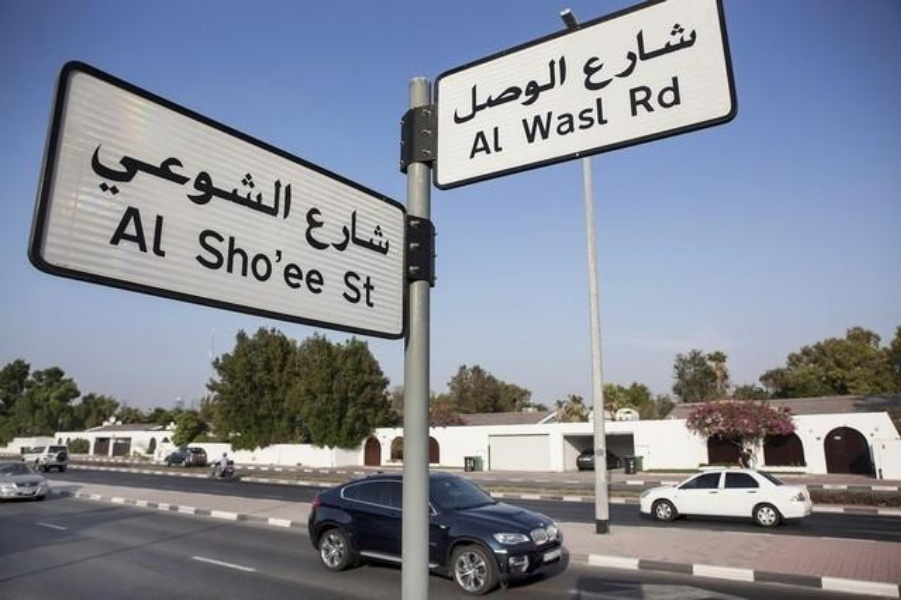text: (113, 122, 128, 244), (129, 122, 144, 244), (145, 122, 160, 244), (161, 122, 176, 244), (177, 122, 192, 244), (193, 122, 208, 244), (209, 122, 224, 244), (225, 122, 240, 244), (241, 122, 256, 244), (257, 122, 272, 244), (273, 122, 288, 244), (577, 12, 592, 98), (593, 12, 608, 98), (609, 12, 624, 98), (625, 12, 640, 98), (641, 12, 656, 98), (657, 12, 672, 98), (673, 12, 688, 98), (689, 12, 704, 98), (209, 223, 224, 302), (225, 223, 240, 302), (241, 223, 256, 302), (257, 223, 272, 302), (273, 223, 288, 302), (289, 223, 304, 302), (305, 223, 320, 302), (465, 54, 480, 131), (481, 54, 496, 131), (497, 54, 512, 131), (513, 54, 528, 131), (529, 54, 544, 131), (545, 54, 560, 131), (103, 122, 112, 244), (289, 122, 298, 244), (305, 192, 320, 265), (321, 192, 336, 265), (337, 192, 352, 265), (353, 192, 368, 265), (369, 192, 384, 265), (195, 223, 208, 302), (451, 54, 464, 131), (561, 54, 573, 131), (129, 202, 144, 261), (145, 202, 160, 261), (529, 95, 544, 147), (545, 95, 560, 147), (561, 95, 576, 147), (577, 95, 592, 147), (593, 95, 608, 147), (321, 223, 330, 302), (641, 74, 656, 120), (657, 74, 672, 120), (353, 267, 368, 310), (626, 74, 640, 120), (481, 122, 496, 164), (161, 202, 171, 261), (385, 192, 393, 265), (468, 122, 480, 164), (120, 202, 128, 261), (519, 95, 528, 147), (497, 122, 507, 164), (673, 74, 682, 120), (369, 267, 378, 310), (345, 267, 352, 310), (705, 12, 707, 98), (609, 95, 611, 147)
